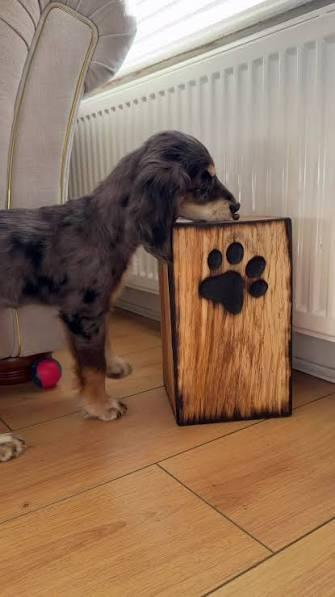puppy-dog: (0, 128, 242, 462)
